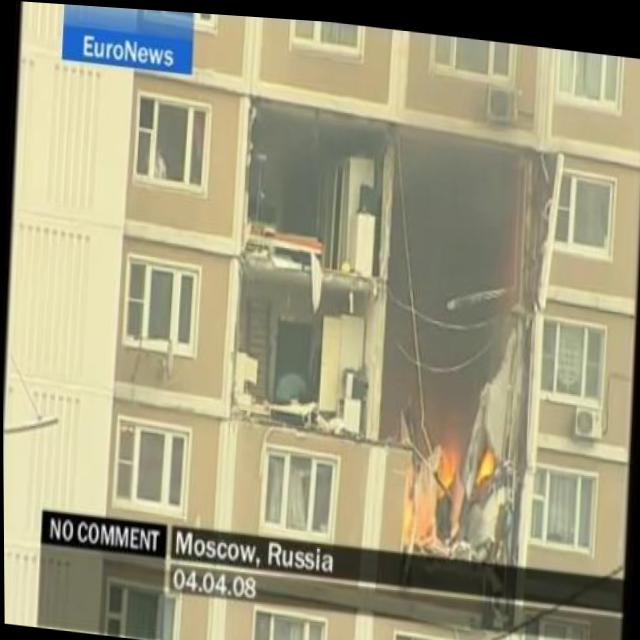fire: (431, 423, 465, 499), (477, 435, 499, 486)
